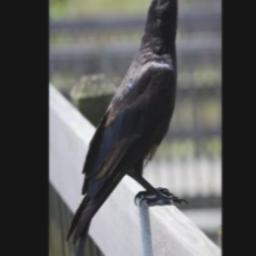Crow: (64, 0, 189, 256)
